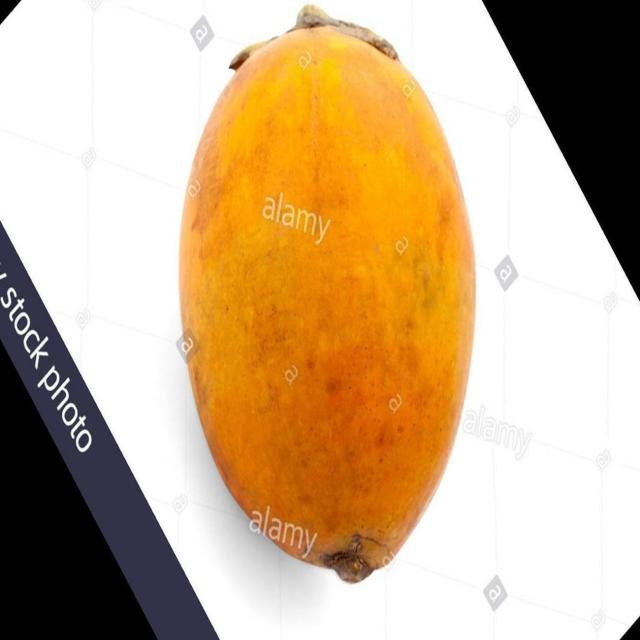good: (179, 22, 475, 582)
